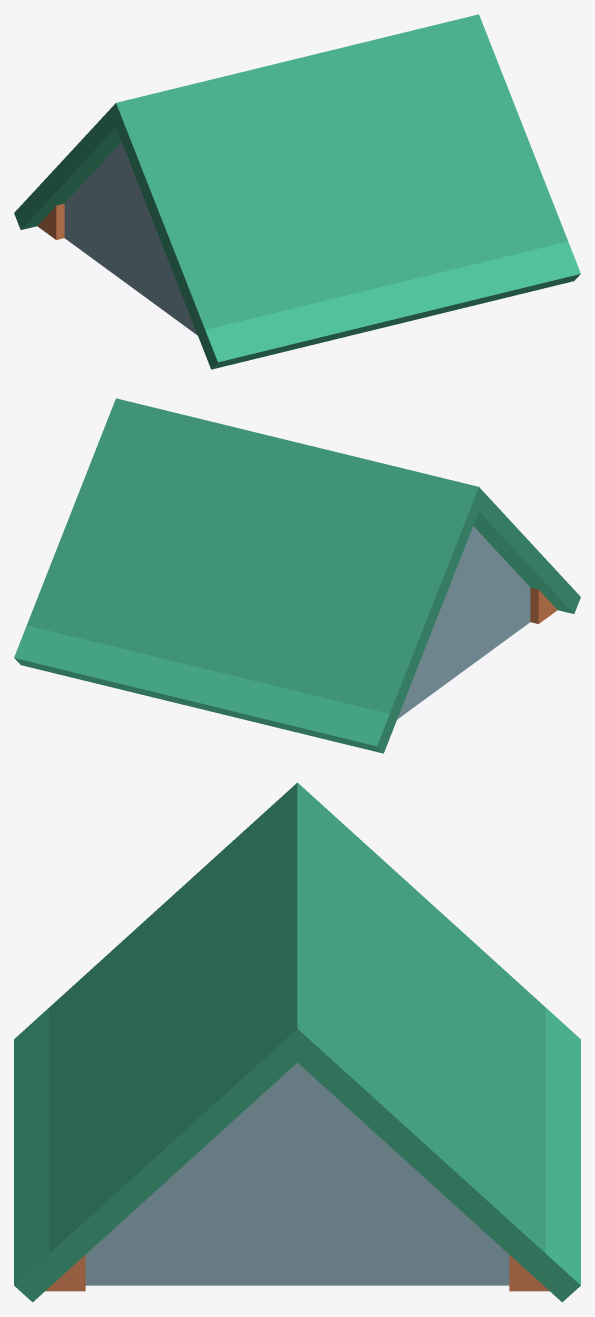
The model's file is roofGable.fbx.
3 renders of one model, top to bottom at view 1: azimuth 30°, elevation 25°; view 2: azimuth 150°, elevation 25°; view 3: azimuth 270°, elevation 25°, orthographic. The views are drawn at different scales.
Parts seen in each view (by area): view 1: roofGable; view 2: roofGable; view 3: roofGable.
Part boxes in pixels (x1,y1,x2,y2): roofGable: [14, 14, 580, 369]; roofGable: [14, 398, 580, 753]; roofGable: [14, 782, 580, 1302].
Bounding box in the file's own units: 11 × 5.71 × 10.71.
